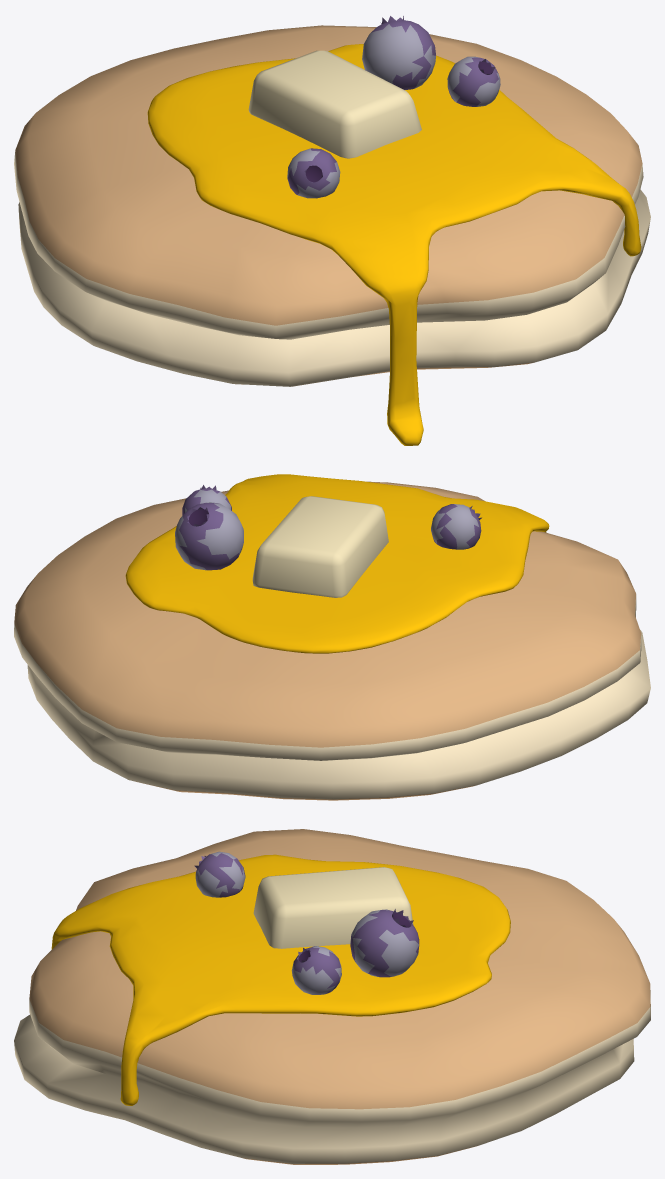
File: pancake_top_LODs.fbx
The picture shows the model from 3 angles, top to bottom: view 1: azimuth 30°, elevation 25°; view 2: azimuth 150°, elevation 25°; view 3: azimuth 270°, elevation 25°; orthographic projection. The views are drawn at different scales.
Parts seen in each view (by area): view 1: pancake_top_LOD0; view 2: pancake_top_LOD0; view 3: pancake_top_LOD0.
Part boxes in pixels (x1=…): pancake_top_LOD0: x1=14, y1=16, x2=650, y2=445; pancake_top_LOD0: x1=14, y1=474, x2=650, y2=800; pancake_top_LOD0: x1=14, y1=829, x2=650, y2=1164.
Size of what is drawn, in the model's own units: 469 by 194 by 478.
